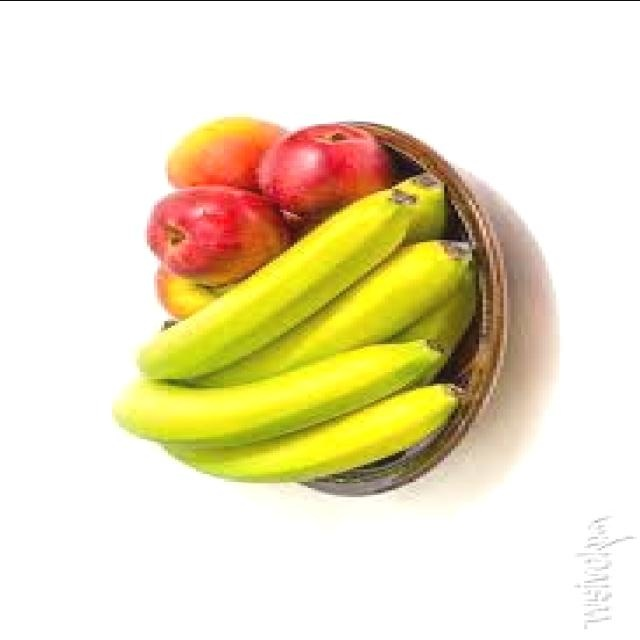agrume: (234, 116, 406, 236), (134, 174, 290, 292)
